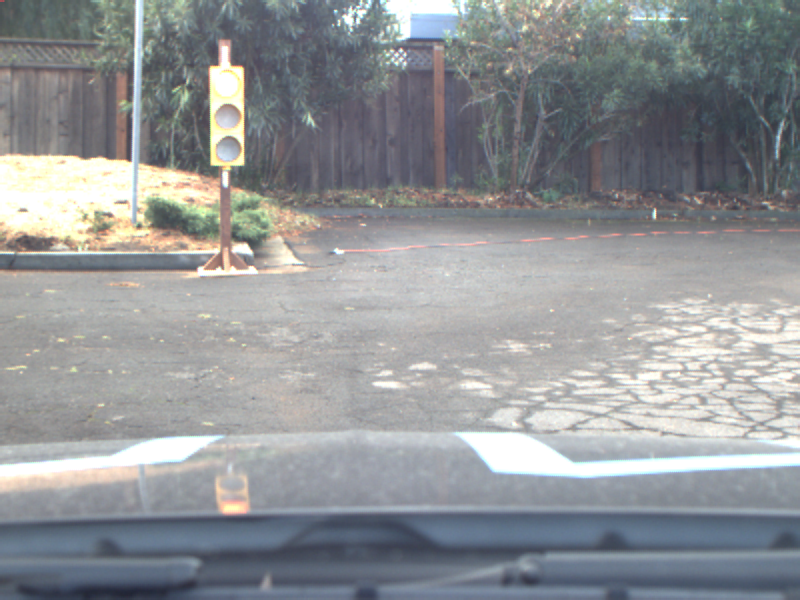Red: (208, 66, 244, 165)
